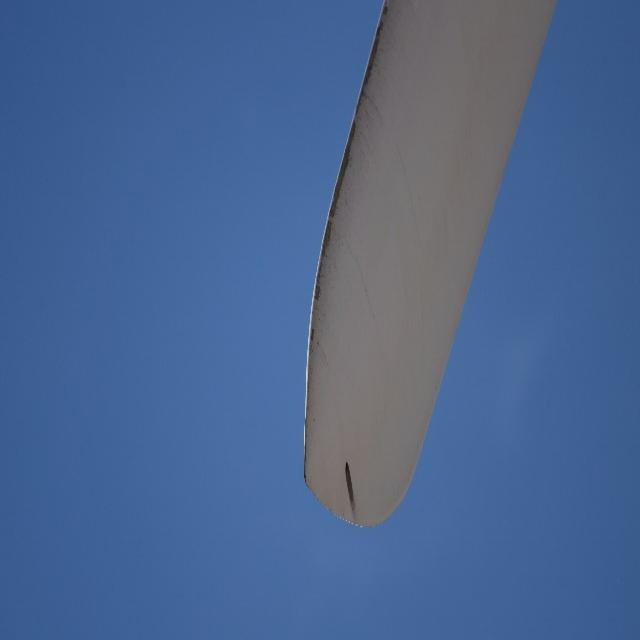Burn Mark: (344, 459, 358, 517)
EROSION: (303, 0, 397, 339)
